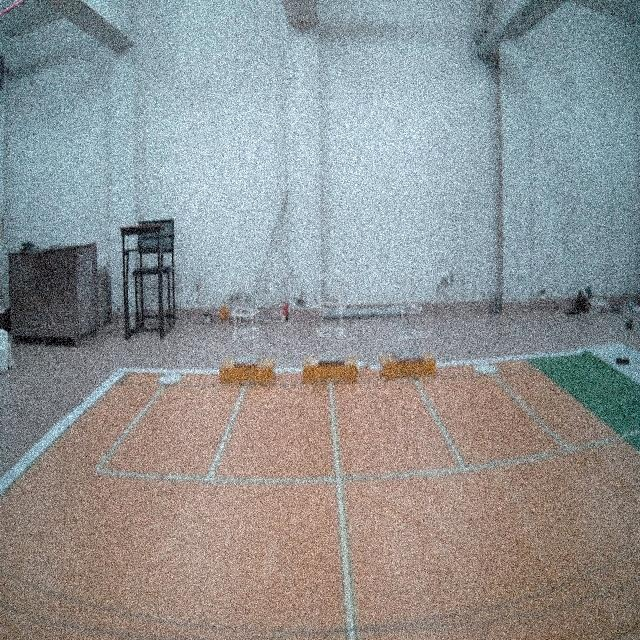silo: (294, 274, 345, 400), (378, 264, 428, 390), (208, 284, 250, 396)
